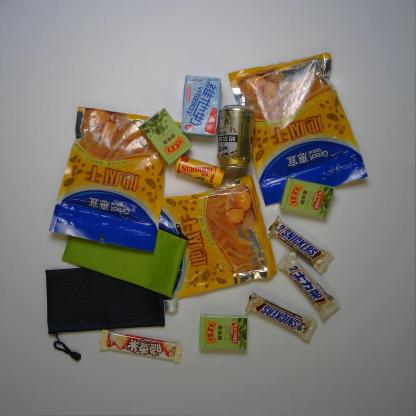Alcohol: (216, 104, 256, 171)
Candy: (137, 107, 193, 166), (280, 176, 336, 219), (199, 312, 248, 351), (174, 153, 226, 189)
Chocolate: (276, 250, 341, 321), (266, 214, 335, 275), (244, 291, 318, 343), (98, 329, 185, 365)
Dried Fruit: (228, 51, 368, 207), (48, 106, 183, 254), (158, 172, 279, 300)
Milk: (180, 74, 223, 138)
Stationery: (44, 266, 178, 362), (61, 223, 189, 300)
